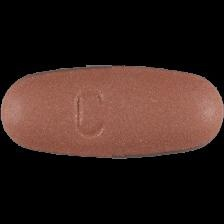0078-0386: (0, 0, 224, 224)
